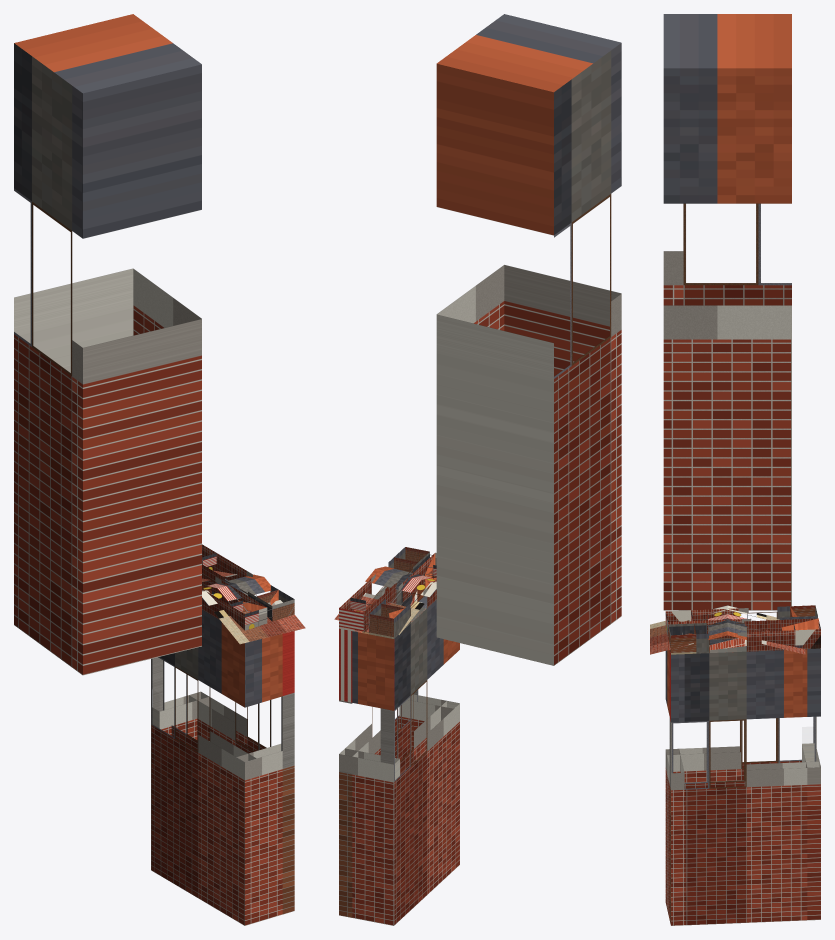
3 renders of one model, left to right at view 1: azimuth 30°, elevation 25°; view 2: azimuth 150°, elevation 25°; view 3: azimuth 270°, elevation 25°, orthographic. The views are drawn at different scales.
Visible parts, largest first — view 1: 238572332__chimney_0_xb, 238572332__wall_3_xb, 238572332__wall_0_xb, 238572332__wall_1_xb, 238572332_roof_-1_xb, 238572332__wall_2_xb, 238572332__cornice_1, 238572332__cornice_3, 238572332__cornice_0; view 2: 238572332__chimney_0_xb, 238572332__wall_3_xb, 238572332__wall_2_xb, 238572332__wall_1_xb, 238572332__cornice_1, 238572332_roof_1_xb, 238572332__cornice_3, 238572332__wall_0_xb, 238572332__cornice_2; view 3: 238572332__chimney_0_xb, 238572332__wall_1_xb, 238572332__wall_0_xb, 238572332__wall_2_xb, 238572332__cornice_1, 238572332__wall_3_xb, 238572332__cornice_3, 238572332_roof_-1_xb, 238572332_roof_1_xb, 238572332__cornice_0, 238572332__cornice_2.
Part boxes in pixels (<box>): 238572332__chimney_0_xb: <box>14,14,201,675</box>; 238572332__wall_3_xb: <box>151,609,256,925</box>; 238572332__wall_0_xb: <box>237,634,282,925</box>; 238572332__wall_1_xb: <box>189,579,294,914</box>; 238572332_roof_-1_xb: <box>202,577,305,644</box>; 238572332__wall_2_xb: <box>152,691,209,739</box>; 238572332__cornice_1: <box>202,544,294,621</box>; 238572332__cornice_3: <box>202,574,267,630</box>; 238572332__cornice_0: <box>229,590,294,629</box>; 238572332__chimney_0_xb: <box>436,14,621,665</box>; 238572332__wall_3_xb: <box>380,596,459,925</box>; 238572332__wall_2_xb: <box>339,630,399,925</box>; 238572332__wall_1_xb: <box>339,586,418,917</box>; 238572332__cornice_1: <box>339,547,429,632</box>; 238572332_roof_1_xb: <box>334,569,436,634</box>; 238572332__cornice_3: <box>369,552,436,638</box>; 238572332__wall_0_xb: <box>399,583,453,749</box>; 238572332__cornice_2: <box>339,597,404,638</box>; 238572332__chimney_0_xb: <box>663,14,791,610</box>; 238572332__wall_1_xb: <box>669,646,819,925</box>; 238572332__wall_0_xb: <box>665,650,684,925</box>; 238572332__wall_2_xb: <box>802,648,820,920</box>; 238572332__cornice_1: <box>668,618,820,653</box>; 238572332__wall_3_xb: <box>667,638,816,782</box>; 238572332__cornice_3: <box>665,605,817,639</box>; 238572332_roof_-1_xb: <box>650,605,727,654</box>; 238572332_roof_1_xb: <box>727,605,805,654</box>; 238572332__cornice_0: <box>665,610,696,654</box>; 238572332__cornice_2: <box>790,605,820,648</box>.
Size of the model in its own units: 0.2715 by 1.05 by 0.1999.
Materials: 1 (1 with a texture image).
